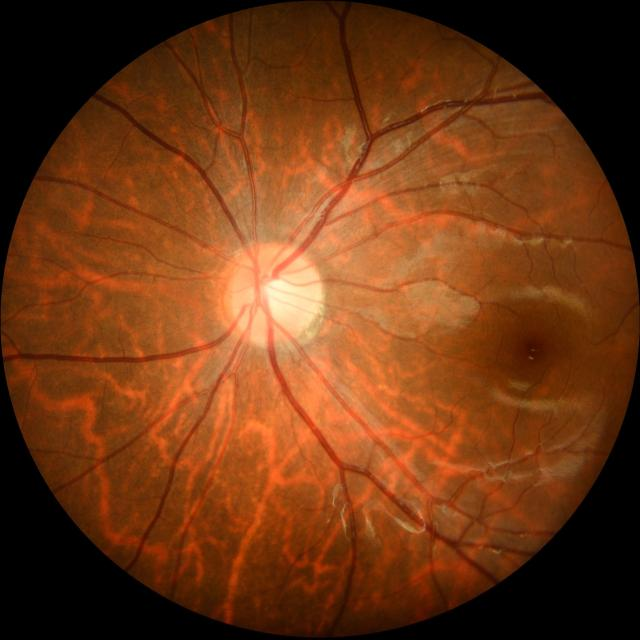OC: (260, 276, 302, 318)
OD: (226, 244, 320, 344)
